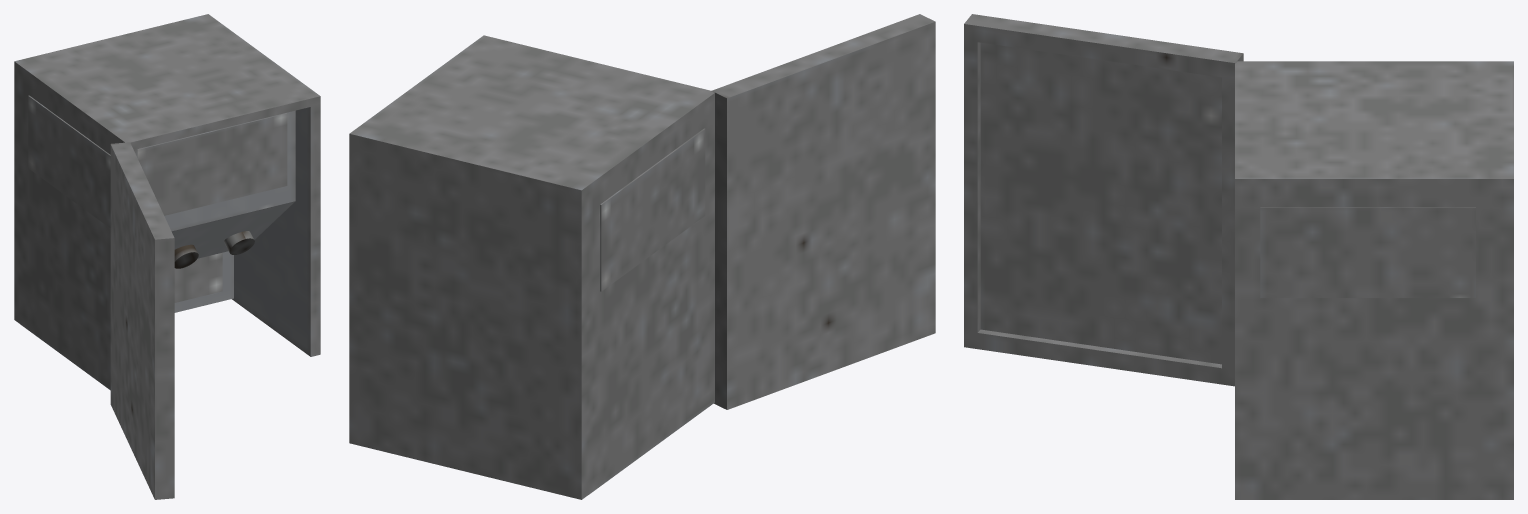
File: fusebox.fbx
The picture shows the model from 3 angles, left to right: view 1: azimuth 30°, elevation 25°; view 2: azimuth 150°, elevation 25°; view 3: azimuth 270°, elevation 25°; orthographic projection. The views are drawn at different scales.
Parts seen in each view (by area): view 1: Cube.014, Cube.019, Cube.015, Cube.013, Cube.016, Cube.018, Cylinder.006, Cylinder.005; view 2: Cube.014, Cube.019, Cube.016; view 3: Cube.014, Cube.019, Cube.017.
Part boxes in pixels (x1,y1,x2,y2): Cube.014: [14, 14, 320, 390]; Cube.019: [110, 142, 174, 499]; Cube.015: [137, 113, 287, 215]; Cube.013: [139, 110, 295, 312]; Cube.016: [28, 95, 110, 228]; Cube.018: [174, 252, 222, 302]; Cylinder.006: [224, 231, 254, 254]; Cylinder.005: [174, 244, 198, 268]; Cube.014: [349, 35, 714, 499]; Cube.019: [711, 14, 935, 409]; Cube.016: [600, 128, 705, 291]; Cube.014: [1235, 61, 1513, 499]; Cube.019: [964, 14, 1243, 386]; Cube.017: [1260, 207, 1475, 297].
Bounding box in the file's own units: 140 × 128 × 197.
Materials: 1 (1 with a texture image).
